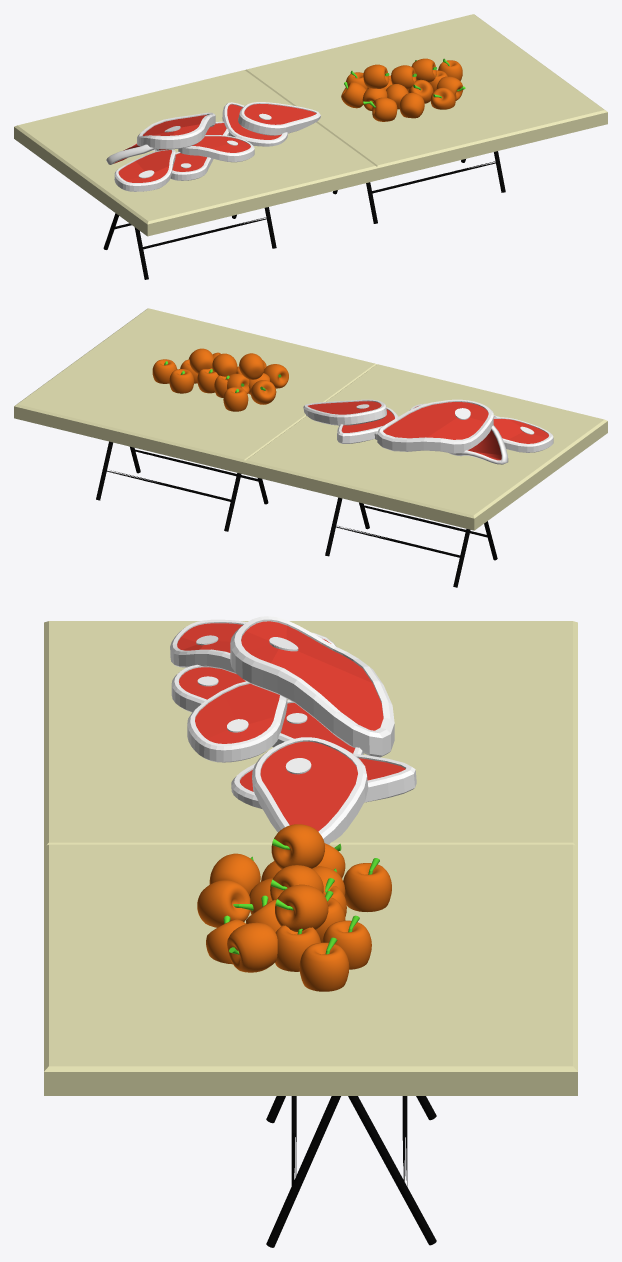
File: Mesa de Comida.fbx
3 views of the same model, one above another, from view 1: azimuth 30°, elevation 25°; view 2: azimuth 150°, elevation 25°; view 3: azimuth 270°, elevation 25° (orthographic). The views are drawn at different scales.
Visible parts, largest first — view 1: Cube.011; view 2: Cube.011; view 3: Cube.011.
Boxes of the visible parts, box(x1,y1,x2,y2) form: Cube.011: box(14, 14, 607, 279); Cube.011: box(14, 308, 607, 587); Cube.011: box(44, 616, 577, 1247).
Bounding box in the file's own units: 790 × 249 × 397.
